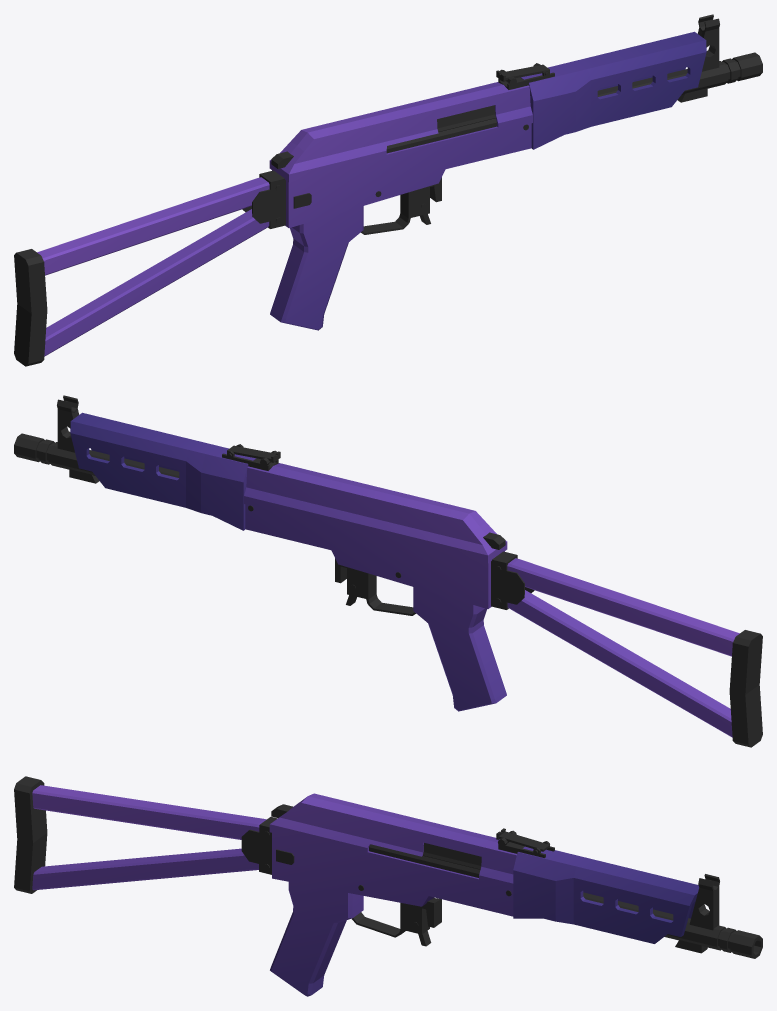
Rendered from SMG5_05.fbx.
3 views of the same model, one above another, from view 1: azimuth 30°, elevation 25°; view 2: azimuth 150°, elevation 25°; view 3: azimuth 330°, elevation 25° (orthographic).
Visible parts, largest first — view 1: SMG5_05; view 2: SMG5_05; view 3: SMG5_05.
Boxes of the visible parts, x1,y1,x2,y2 form: SMG5_05: [14, 14, 762, 366]; SMG5_05: [14, 395, 762, 747]; SMG5_05: [14, 776, 762, 996].
Size of the model in its own units: 0.8851 by 0.2432 by 0.0422.
